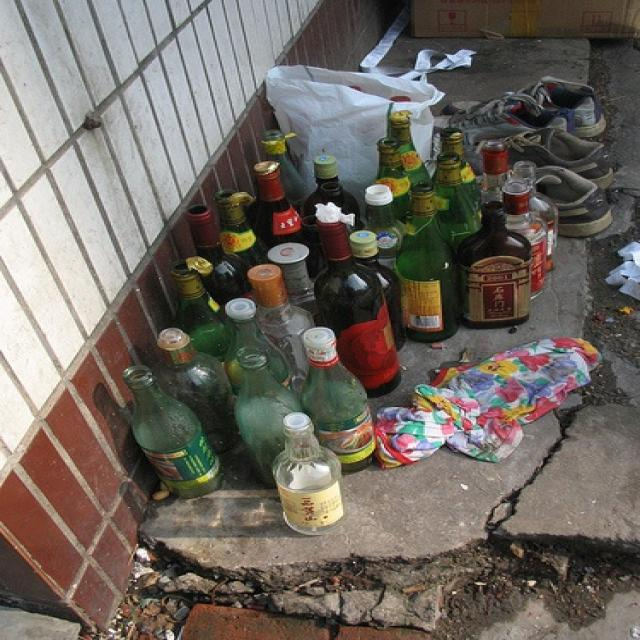bottle: (313, 219, 407, 398), (120, 362, 226, 500), (300, 324, 378, 476), (154, 326, 239, 456), (394, 180, 461, 344), (271, 411, 350, 537), (458, 200, 534, 330), (242, 261, 318, 389), (234, 352, 302, 489), (217, 296, 295, 394), (350, 229, 406, 353), (184, 202, 253, 302), (169, 258, 232, 358), (500, 180, 546, 298), (514, 158, 562, 258), (251, 159, 302, 242), (432, 154, 481, 240), (258, 129, 310, 205), (362, 182, 404, 275), (386, 109, 434, 187), (213, 187, 263, 261), (372, 136, 413, 222), (265, 242, 314, 311), (476, 140, 512, 200), (439, 127, 471, 152)
